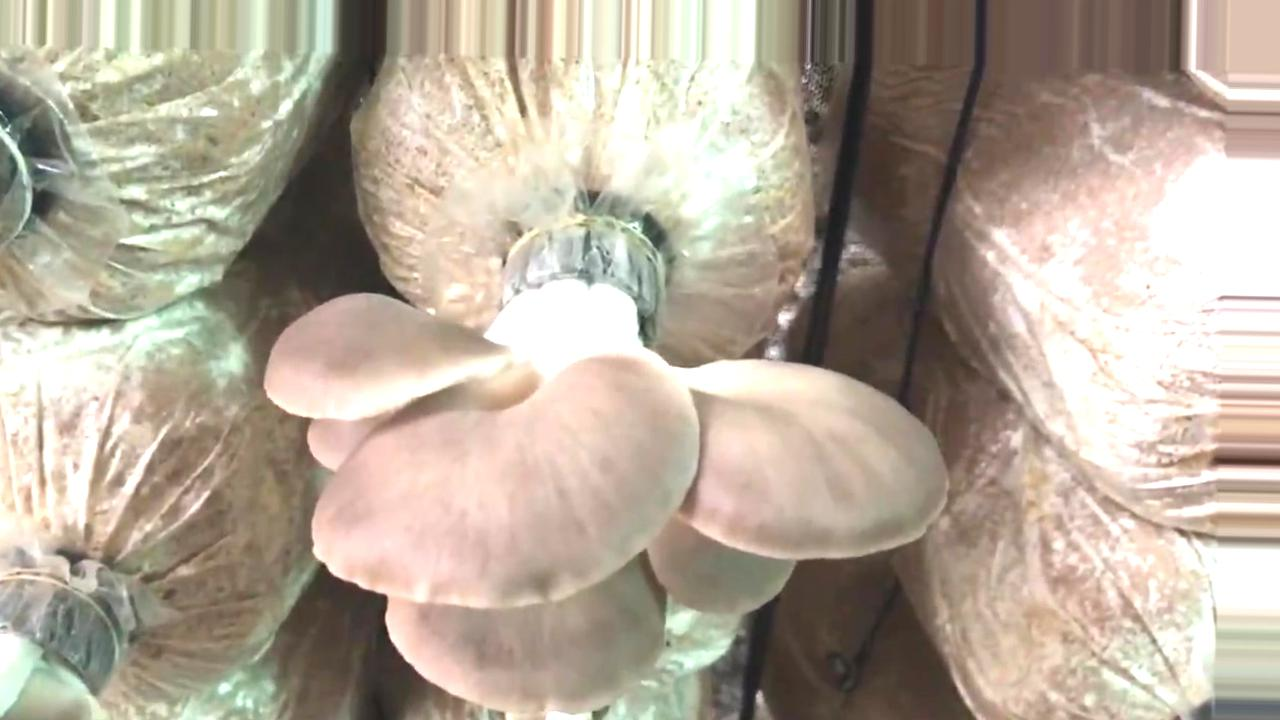nam: (267, 227, 945, 712), (1, 573, 111, 720)
